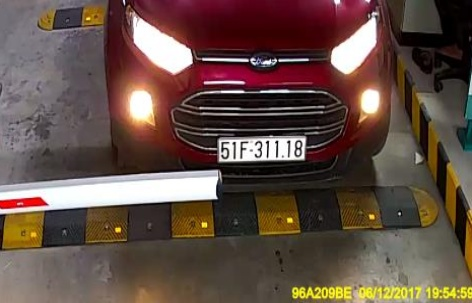plate: (214, 132, 310, 171)
